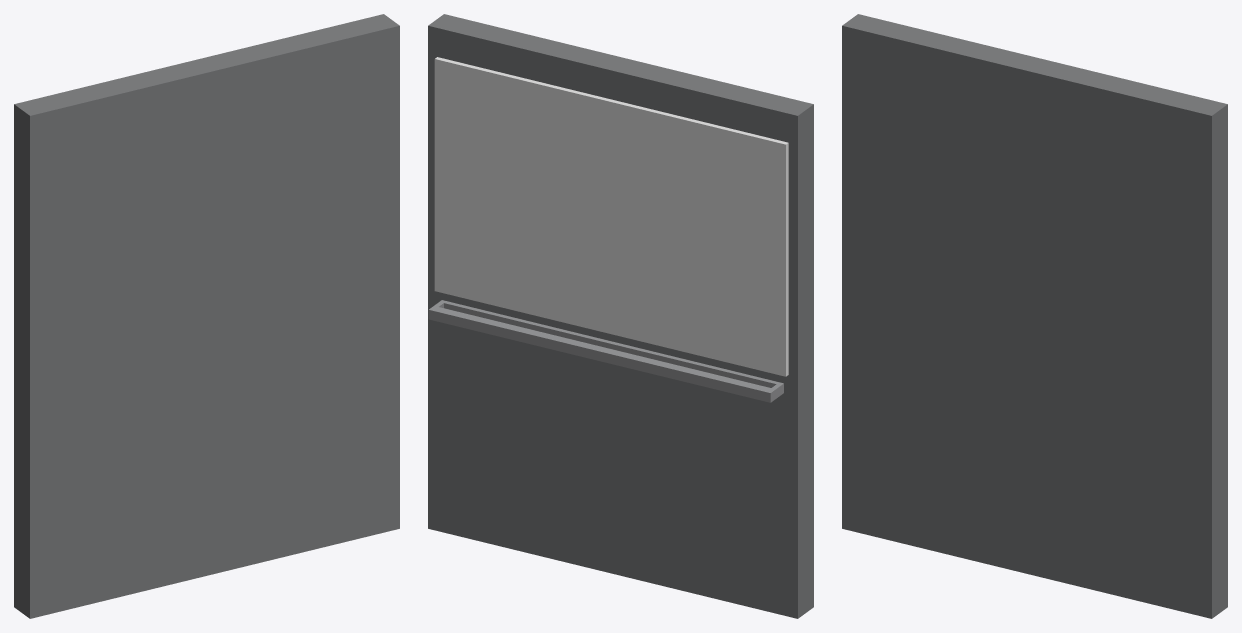
Rendered from elevator_02_M_int.dae.
3 views of the same model, side by side, from view 1: azimuth 30°, elevation 25°; view 2: azimuth 150°, elevation 25°; view 3: azimuth 330°, elevation 25° (orthographic).
Visible parts, largest first — view 1: Untitled.001; view 2: Untitled.001, Untitled; view 3: Untitled.001.
Boxes of the visible parts, x1,y1,x2,y2 form: Untitled.001: (14,14,399,618); Untitled.001: (428,14,813,618); Untitled: (434,57,788,376); Untitled.001: (842,14,1227,618).
Bounding box in the file's own units: 2.4 × 0.33 × 3.12.
Materials: 2 (2 with a texture image).
